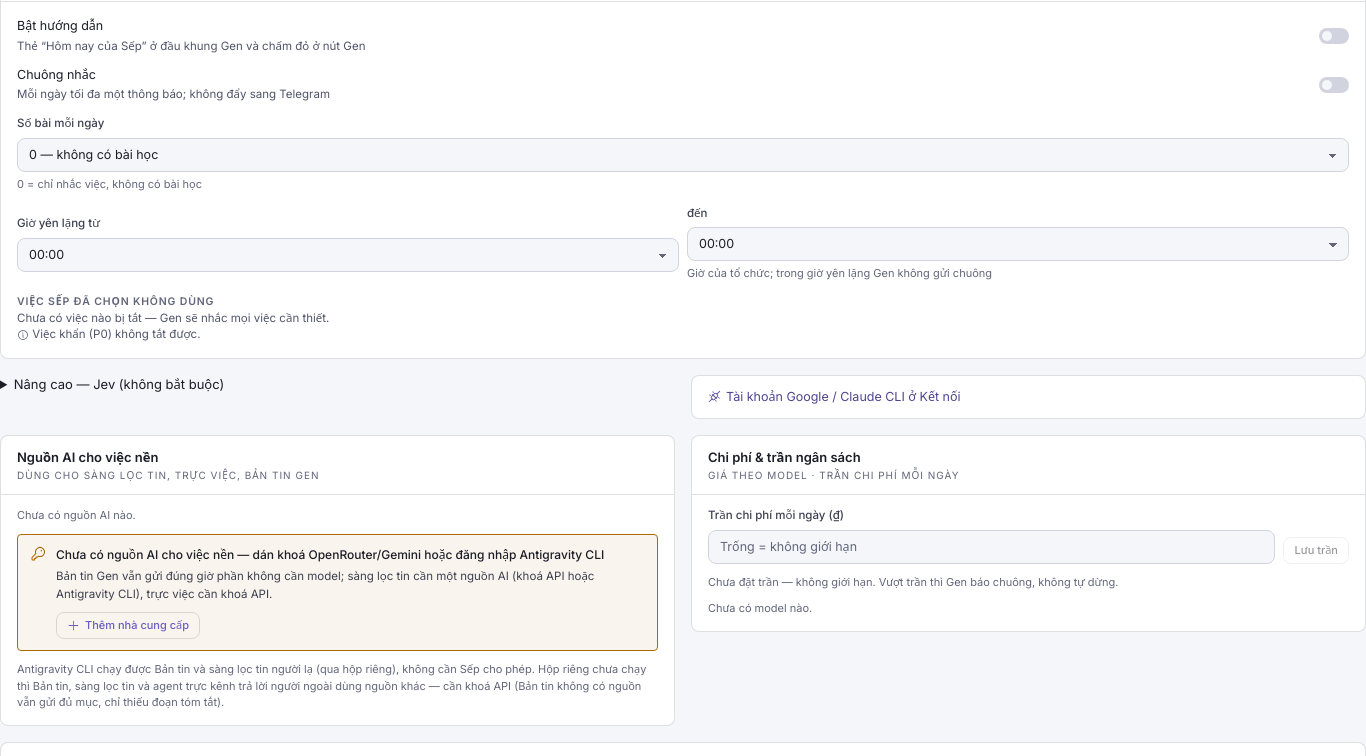
Test case: v0.1.39 — Jev "Kiểm tra 1 lần" và thu vào "Nâng cao" khi lỗi › Jev khoẻ: thẻ vẫn trong "Nâng cao — Jev (không bắt buộc)" (đóng sẵn); mở ra thấy nút "Kiểm tra 1 lần"
(page scrolled)
Expected: the text "Jev — quyết định nhanh cho Gen" is not shown
Click the heading "Nâng cao — Jev (không bắt buộc)".
click(119, 384)  # box [14, 376, 224, 392]
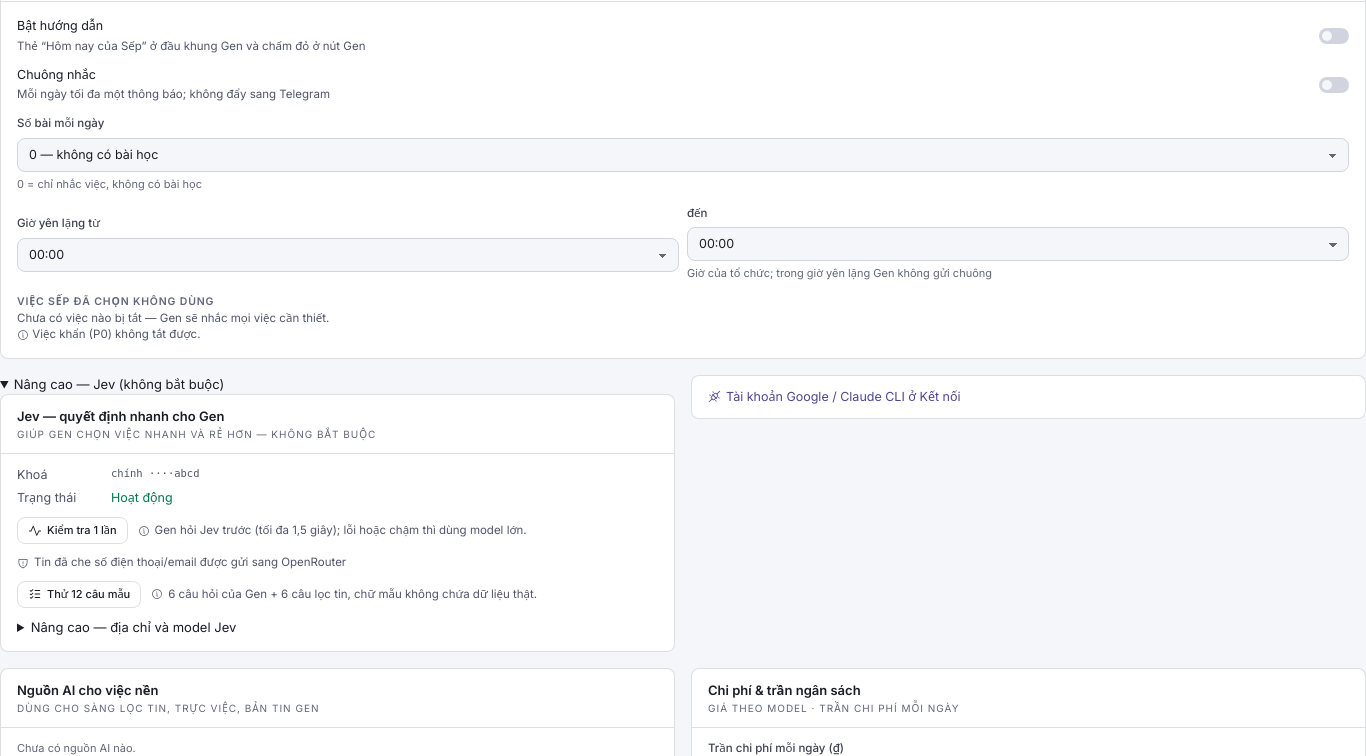
Now the button "Kiểm tra 1 lần" is shown, box [17, 517, 128, 544]
Now the text "Jev — quyết định nhanh cho Gen" is shown, box [17, 408, 224, 424]
